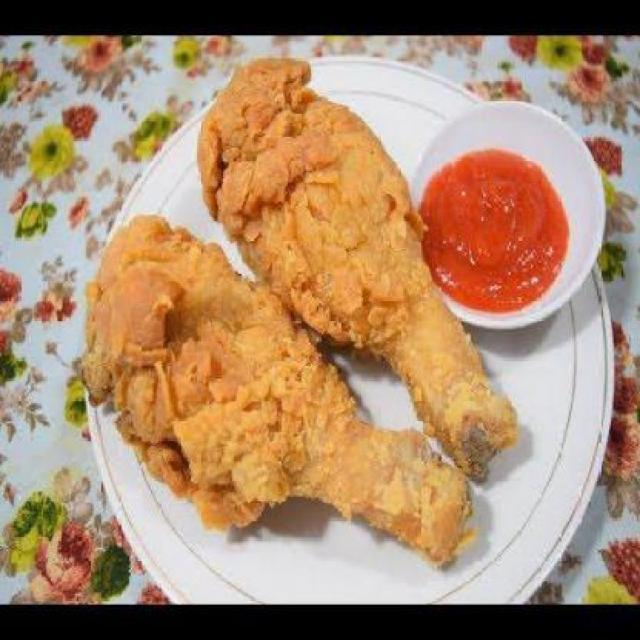Chicken -Fried Chicken-: (81, 59, 520, 565)
